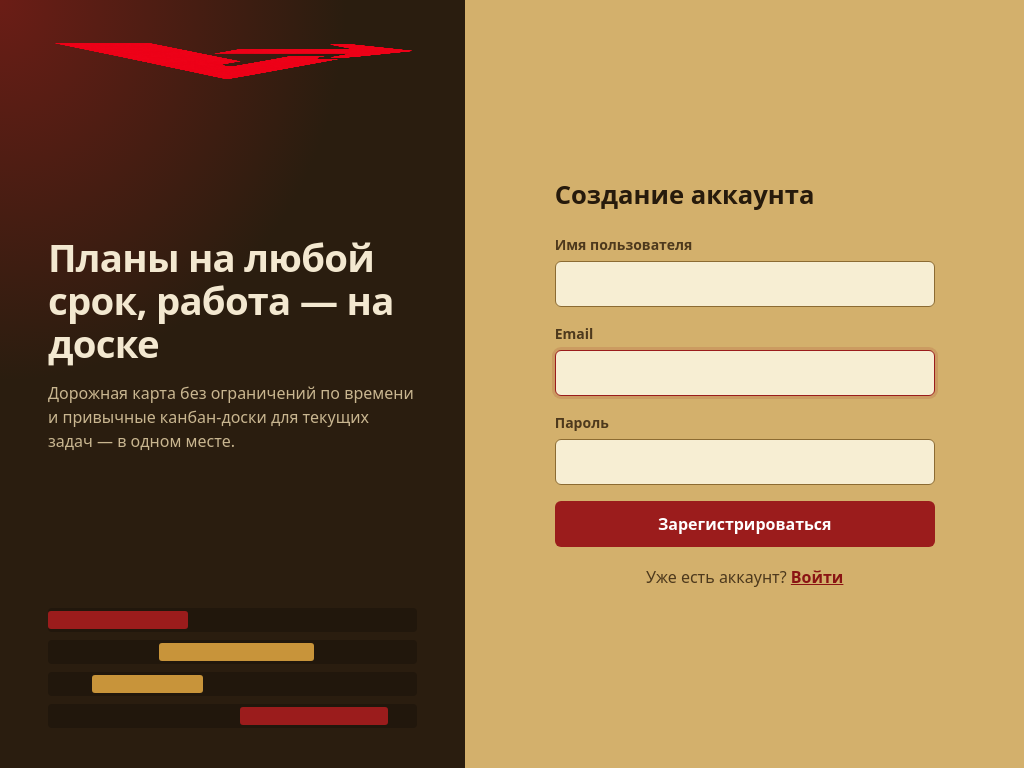
Test case: регистрация › требует имя и пароль от 6 символов
Type "a@b.c" into the field labelled "Email" at (745, 374), box [555,350,935,396]
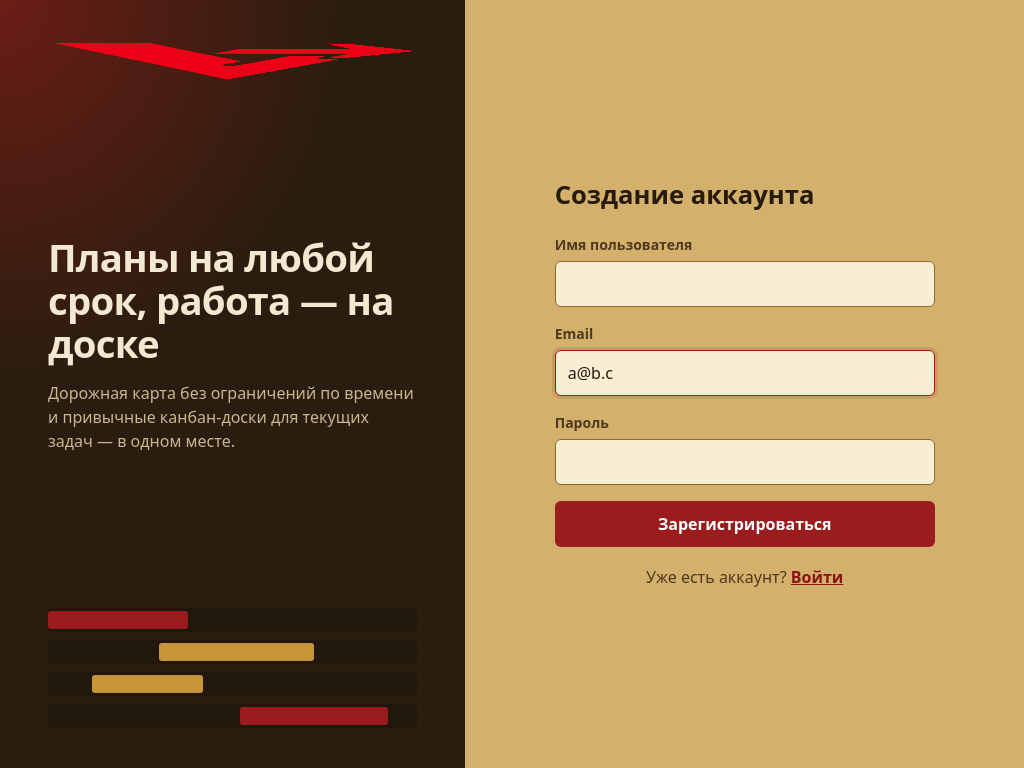
Type "secret" into the password field labelled "Пароль" at (745, 462), box [555,440,935,486]
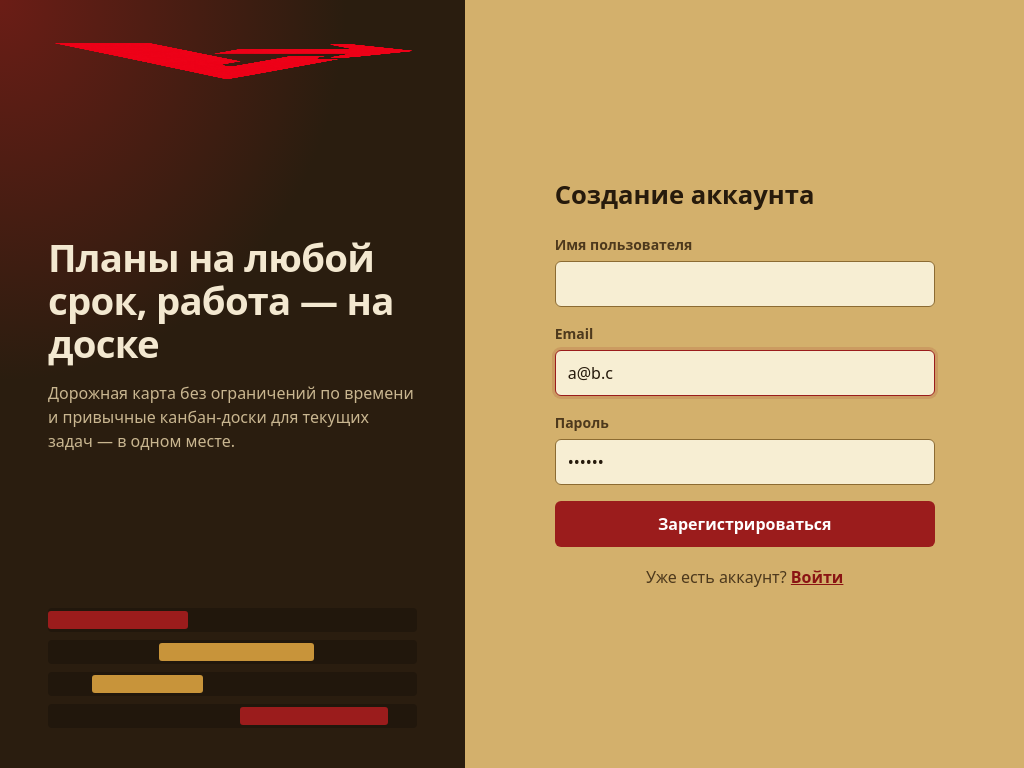
Click the button "Зарегистрироваться" at (745, 524), box [555,502,935,548]
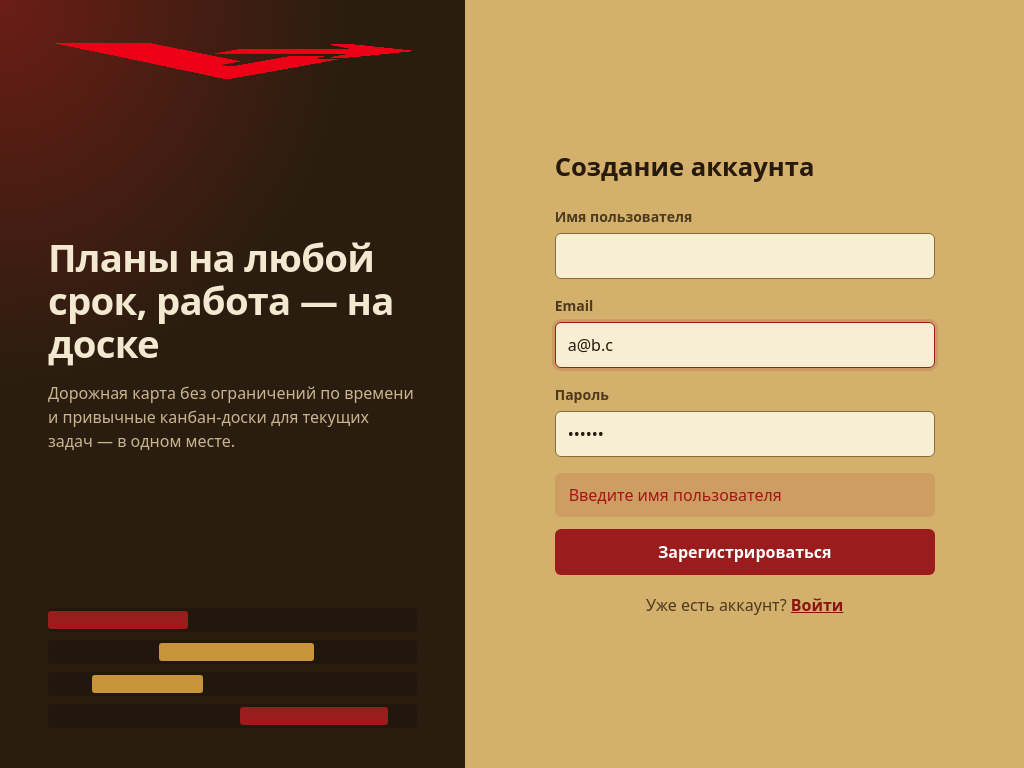
Expected: the text "Введите имя пользователя" is shown, [555,474,935,518]
Type "anna" into the field labelled "Имя пользователя" at (745, 256), box [555,234,935,280]
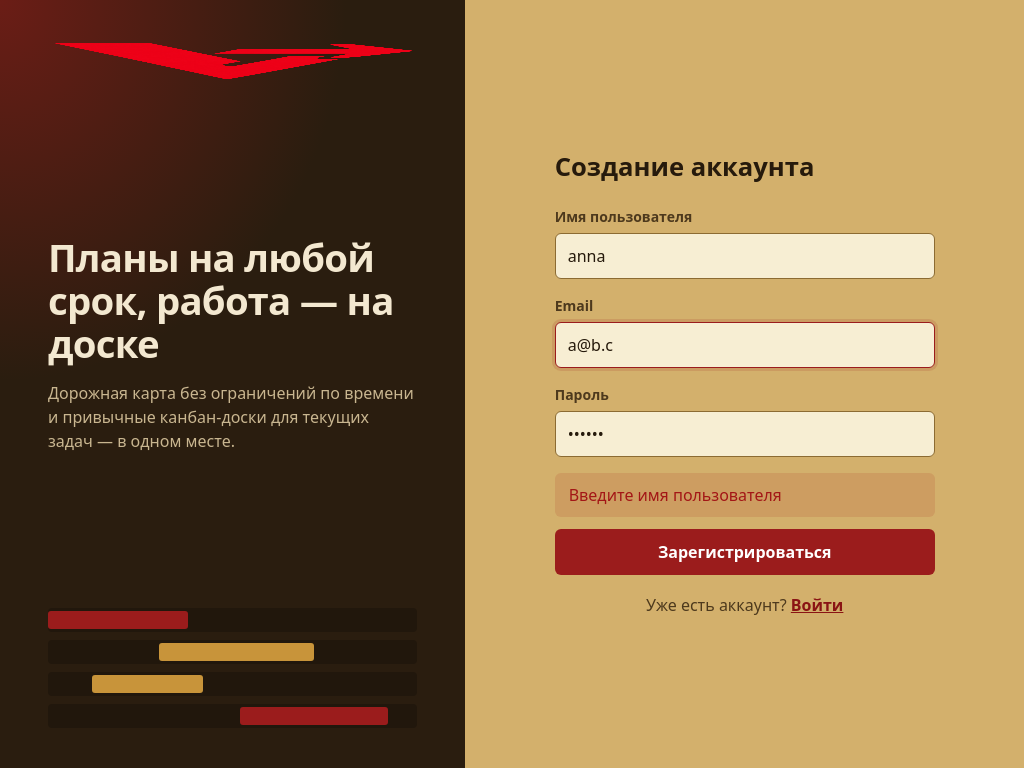
Type "123" into the password field labelled "Пароль" at (745, 434), box [555,412,935,458]
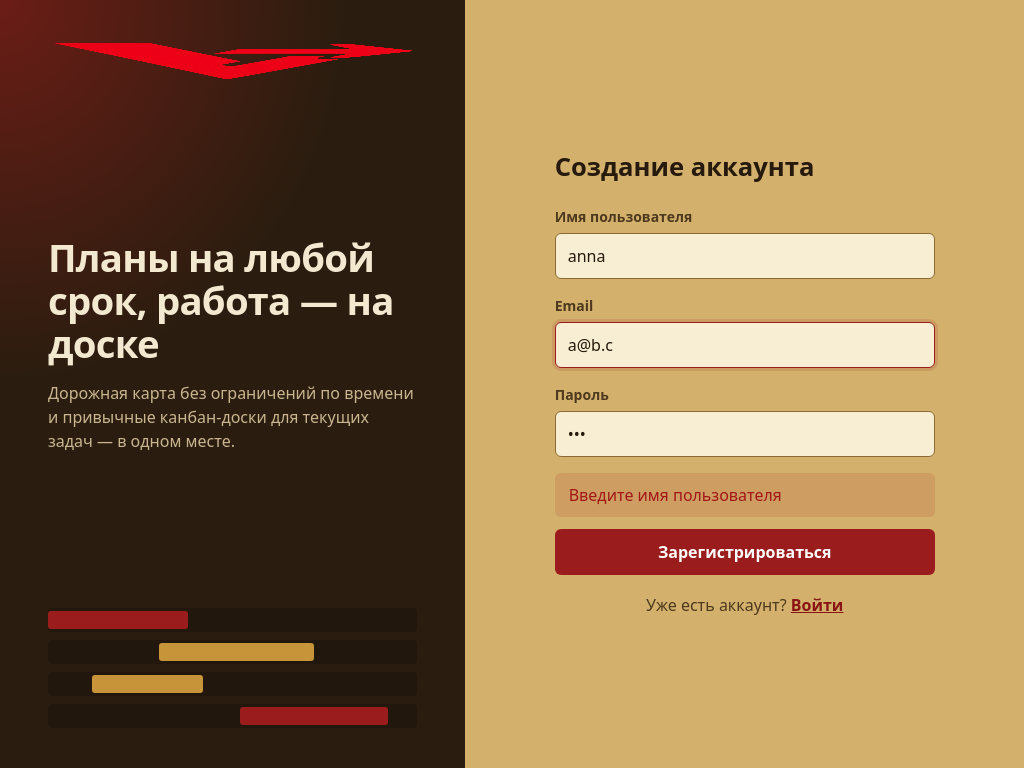
Click the button "Зарегистрироваться" at (745, 552), box [555,530,935,576]
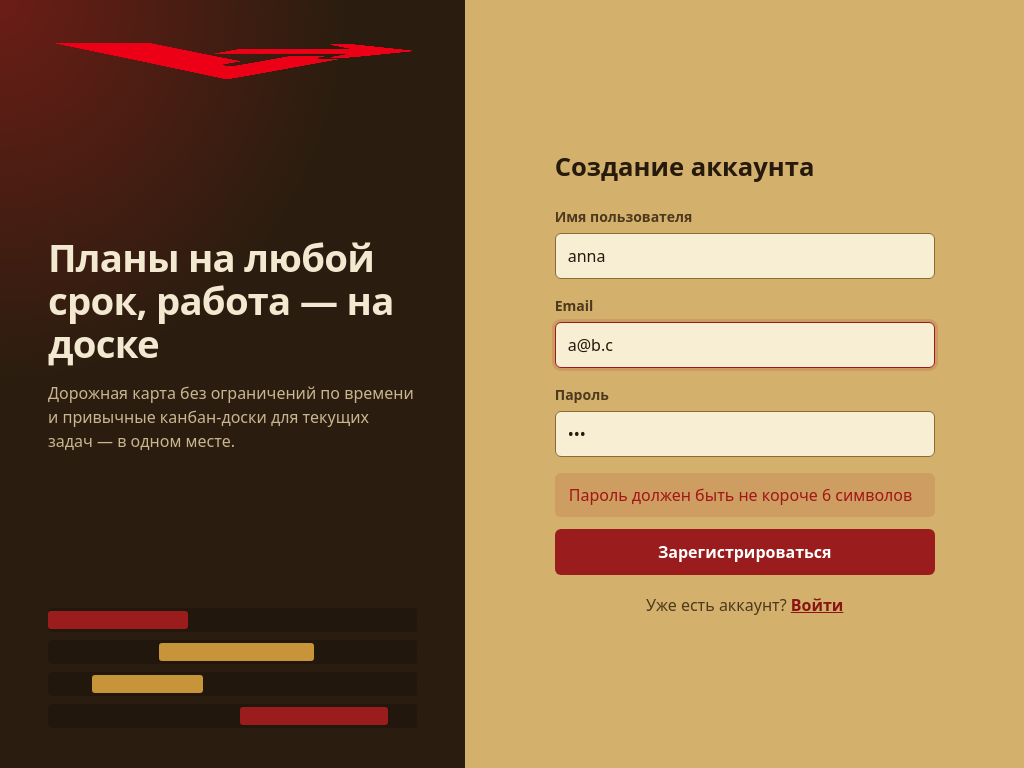
Expected: the text "Пароль должен быть не короче 6 символов" is shown, [555,474,935,518]
